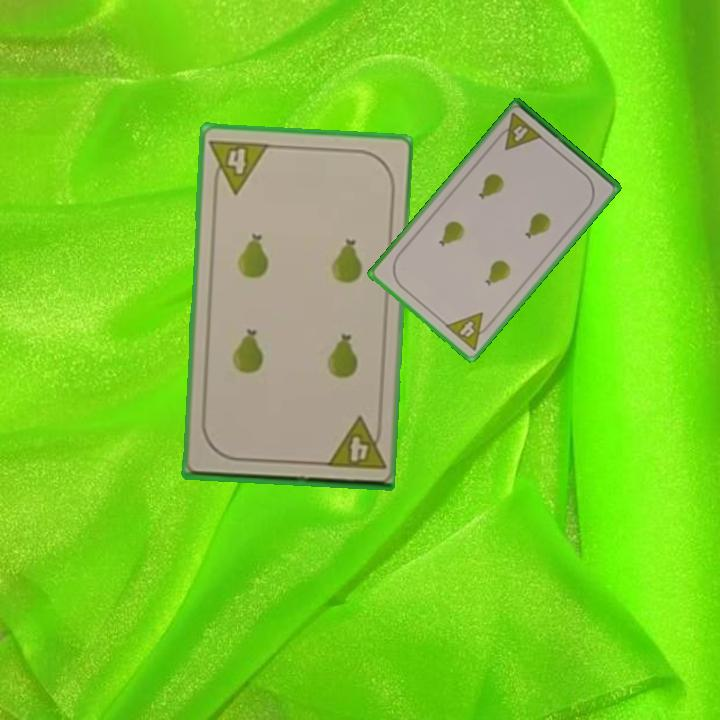4p: (206, 135, 271, 196), (321, 414, 387, 473), (441, 309, 496, 353), (492, 109, 545, 153)
